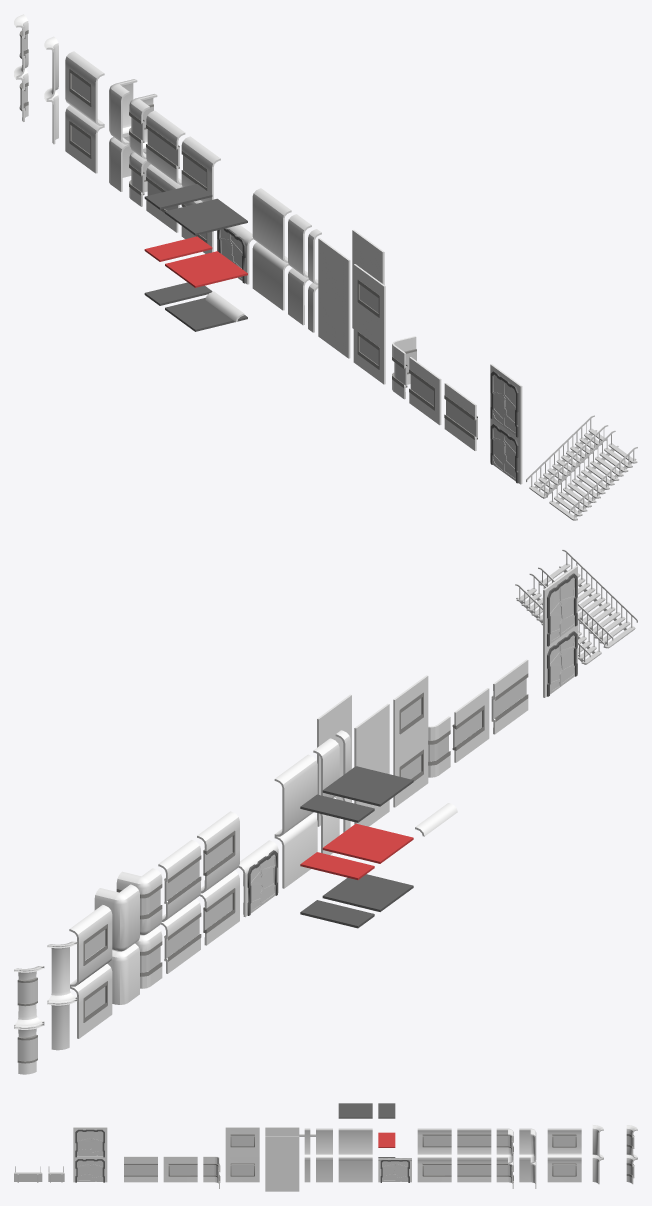
The model's file is Modular Asset Kit Arctic Scifi Base PostUV_2.fbx.
3 renders of one model, top to bottom at view 1: azimuth 30°, elevation 25°; view 2: azimuth 150°, elevation 25°; view 3: azimuth 270°, elevation 25°, orthographic. The views are drawn at different scales.
Visible parts, largest first — view 1: Stair_Full, FullWallTop, FullWallStraightTop, FullRoof, FullCeiling, SquareWindowTop, FullWindowTop, FullWall, SquareWindowStraightTop, FullWallStraight, SquareWindow, EndingWindowTop (+19 smaller); view 2: FullRoof, FullCeiling, FullWallTop, SquareWindowTop, FullFloor, EndingWindowTop, FullWindowTop, CornerWallTop, SquareWindowStraightTop, FullWallStraightTop, FullWall, SquareWindow (+22 smaller); view 3: FullWallTop, SquareWindowTop, FullWallStraightTop.001, EndingWindowTop, FullWindowTop, SquareWindowStraightTop, EndingWindow.001, FullWallStraight.001, SquareWindowStraight, FullWindow.001, FullWall, SquareWindow (+30 smaller).
Boxes of the visible parts, x1,y1,x2,y2 form: Stair_Full: [549, 443, 637, 520]; FullWallTop: [252, 188, 291, 262]; FullWallStraightTop: [318, 238, 350, 312]; FullRoof: [165, 198, 247, 235]; FullCeiling: [165, 251, 247, 287]; SquareWindowTop: [65, 51, 104, 125]; FullWindowTop: [146, 110, 185, 185]; FullWall: [252, 242, 288, 310]; SquareWindowStraightTop: [353, 264, 385, 338]; FullWallStraight: [318, 291, 350, 358]; SquareWindow: [65, 105, 104, 173]; EndingWindowTop: [181, 136, 220, 201]; FullRoof: [322, 766, 413, 806]; FullCeiling: [322, 823, 413, 863]; FullWallTop: [274, 754, 317, 836]; SquareWindowTop: [69, 905, 112, 986]; FullFloor: [322, 874, 413, 911]; EndingWindowTop: [197, 811, 239, 893]; FullWindowTop: [158, 840, 200, 921]; CornerWallTop: [94, 884, 139, 951]; SquareWindowStraightTop: [393, 675, 428, 757]; FullWallStraightTop: [354, 703, 389, 770]; FullWall: [274, 813, 317, 888]; SquareWindow: [70, 964, 112, 1038]; FullWallTop: [338, 1128, 372, 1158]; SquareWindowTop: [547, 1128, 581, 1158]; FullWallStraightTop.001: [265, 1136, 299, 1166]; EndingWindowTop: [417, 1128, 451, 1158]; FullWindowTop: [457, 1128, 491, 1158]; SquareWindowStraightTop: [225, 1127, 259, 1156]; EndingWindow.001: [163, 1156, 197, 1182]; FullWallStraight.001: [265, 1166, 299, 1191]; SquareWindowStraight: [225, 1157, 259, 1182]; FullWindow.001: [124, 1156, 157, 1182]; FullWall: [338, 1158, 372, 1182]; SquareWindow: [547, 1158, 581, 1182].
Bounding box in the file's own units: 878 × 536 × 5525.
